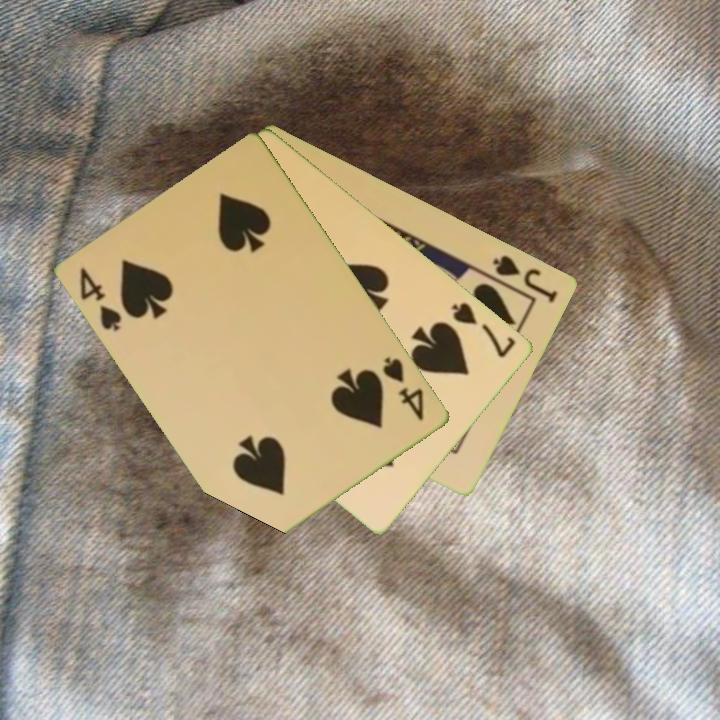4s: (76, 264, 126, 335), (379, 353, 428, 424)
7s: (448, 298, 519, 361)
Js: (489, 251, 562, 306)
